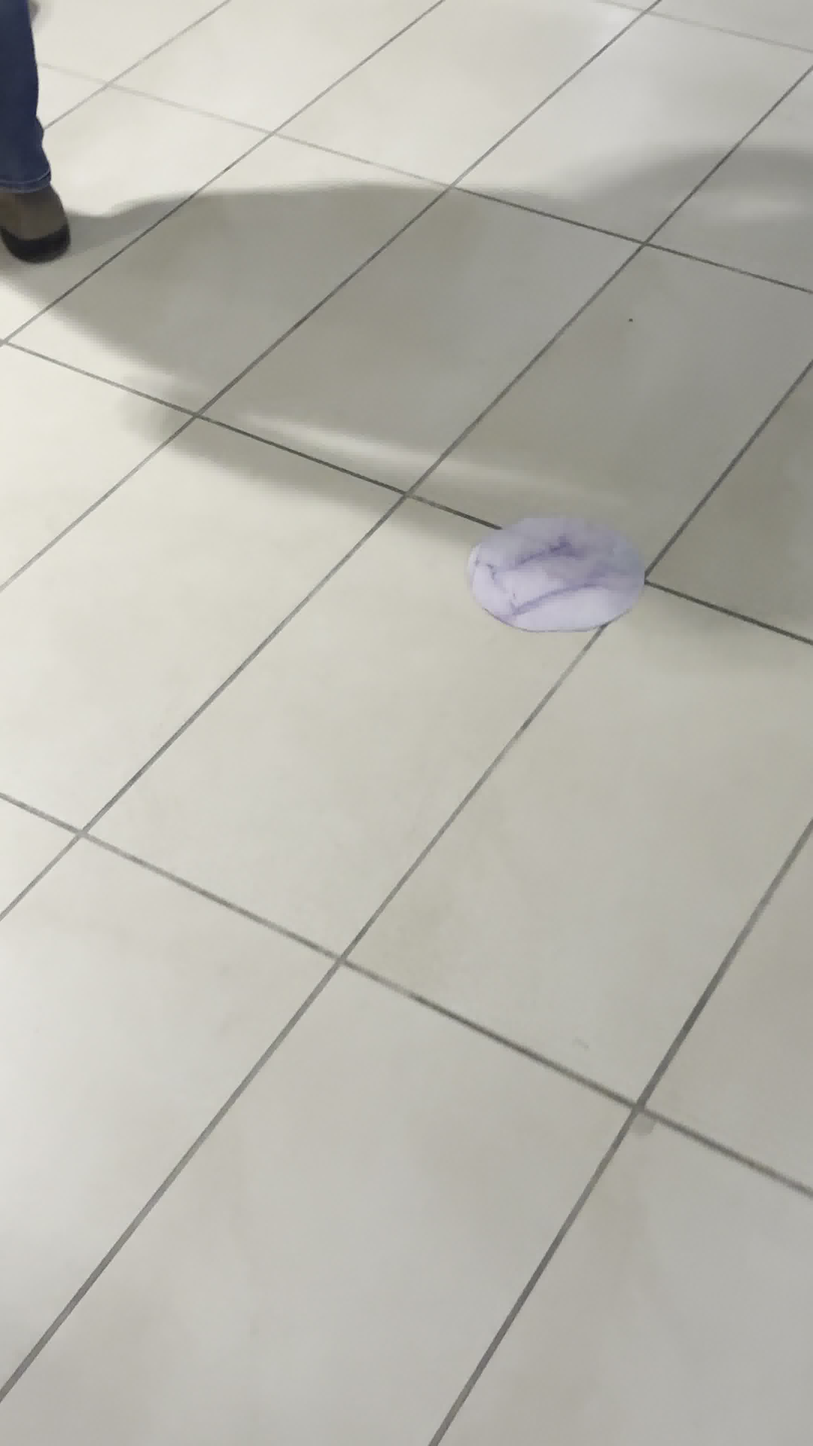Target: (465, 513, 645, 634)
